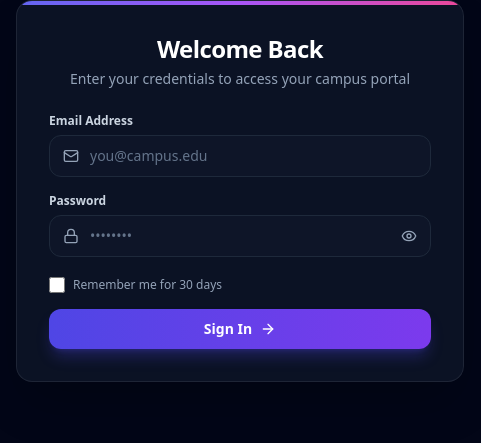
Test: LoginForm Component › validates empty inputs and displays error messages
Click the button "Sign In" at [240, 329], box x1=49 y1=309 x2=431 y2=349
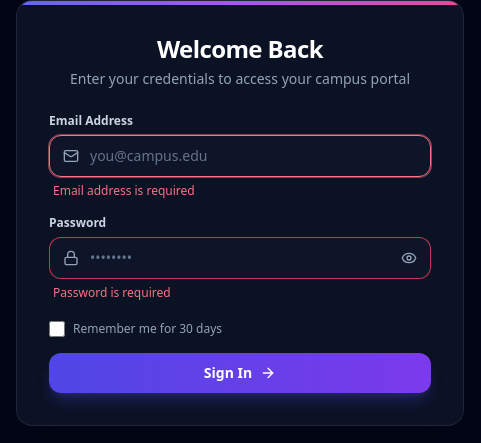
Check: the text "Email address is required" is shown, box x1=53 y1=182 x2=195 y2=199
Check: the text "Password is required" is shown, box x1=53 y1=284 x2=171 y2=301
